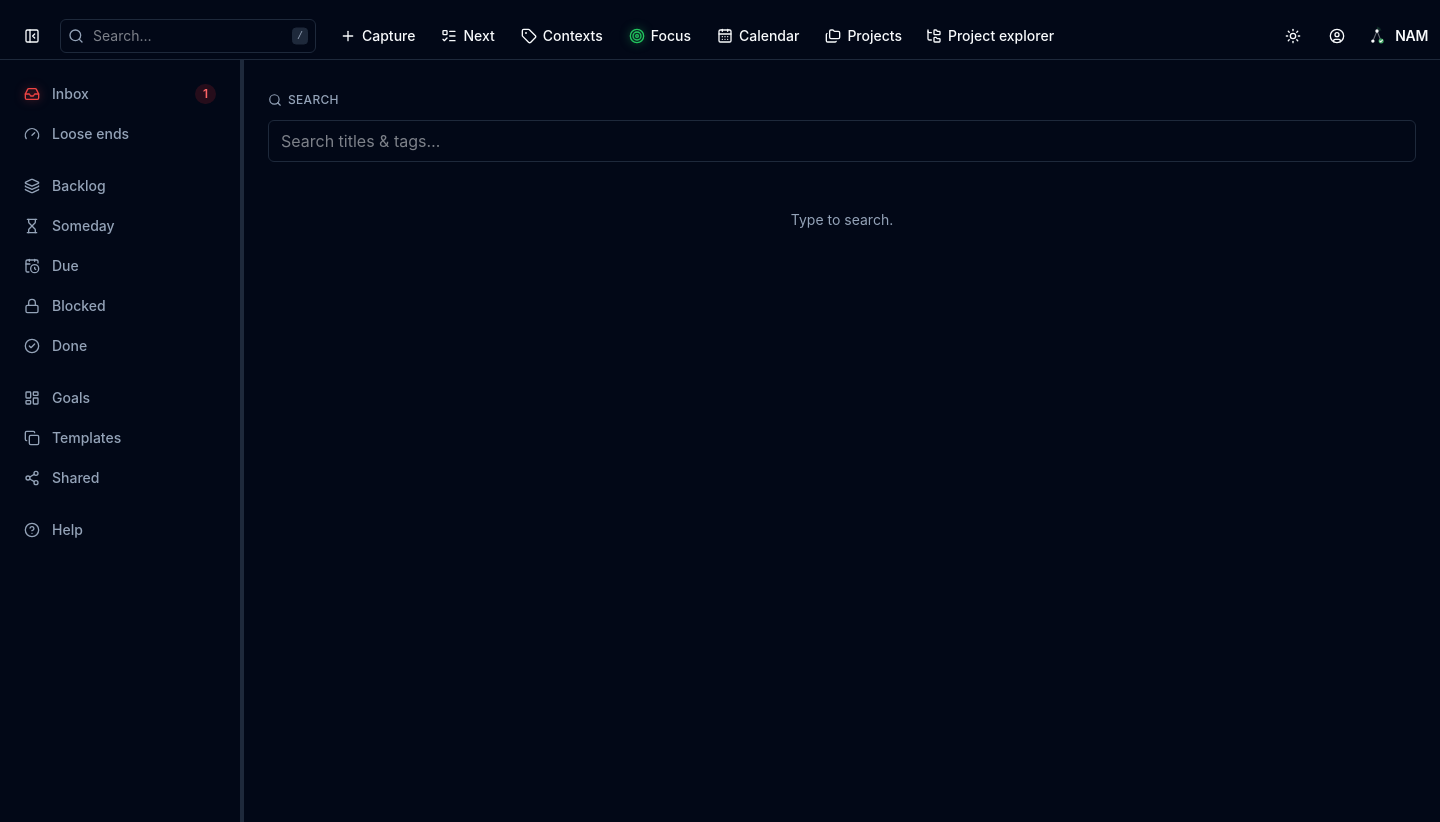
Test case: routing › searches at /search
Type "road" into the field labelled "Search" at {"x": 842, "y": 141}, box [268,120,1416,162]
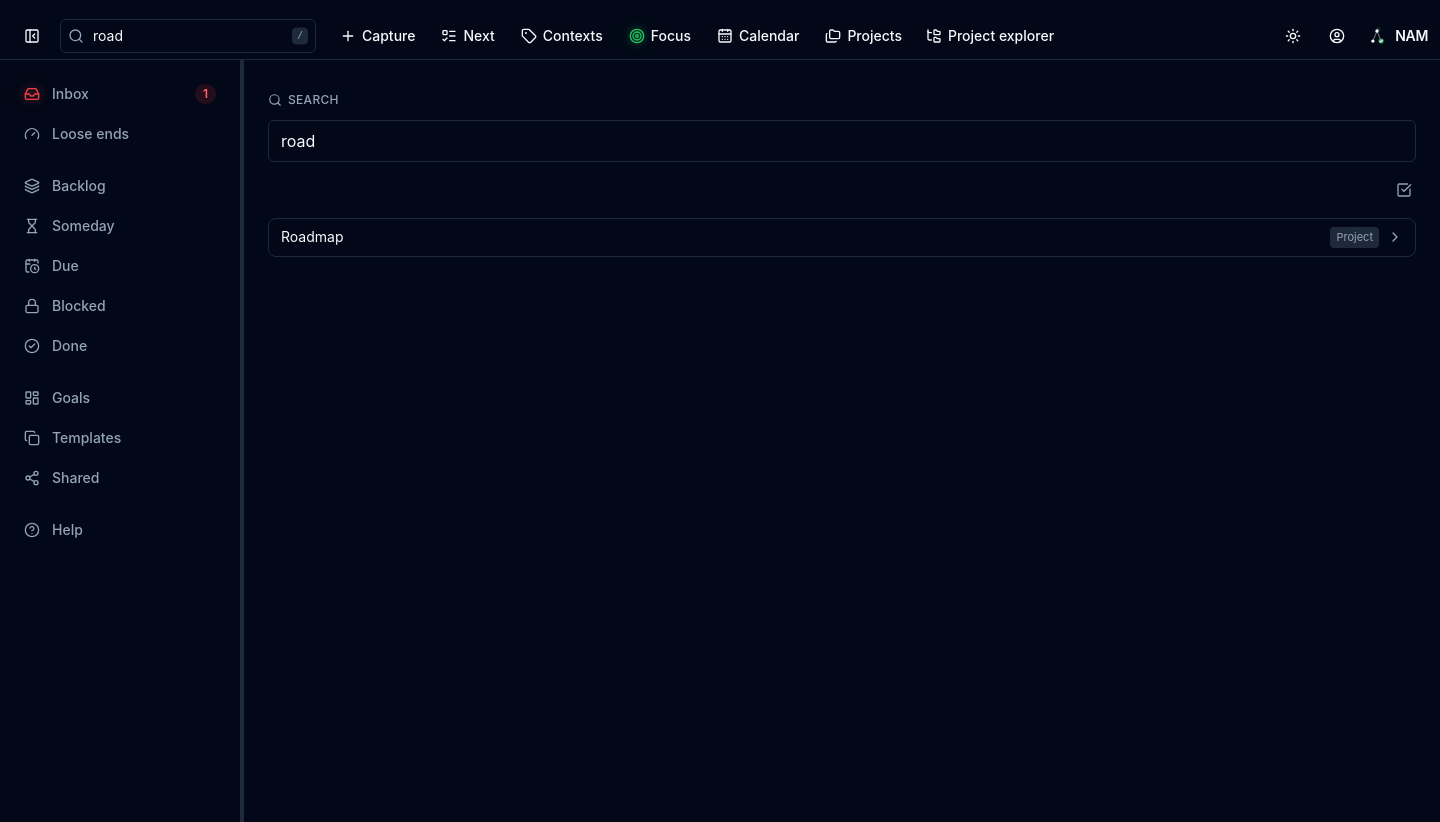
Expected: the text "Roadmap" is shown, [281,228,344,245]
